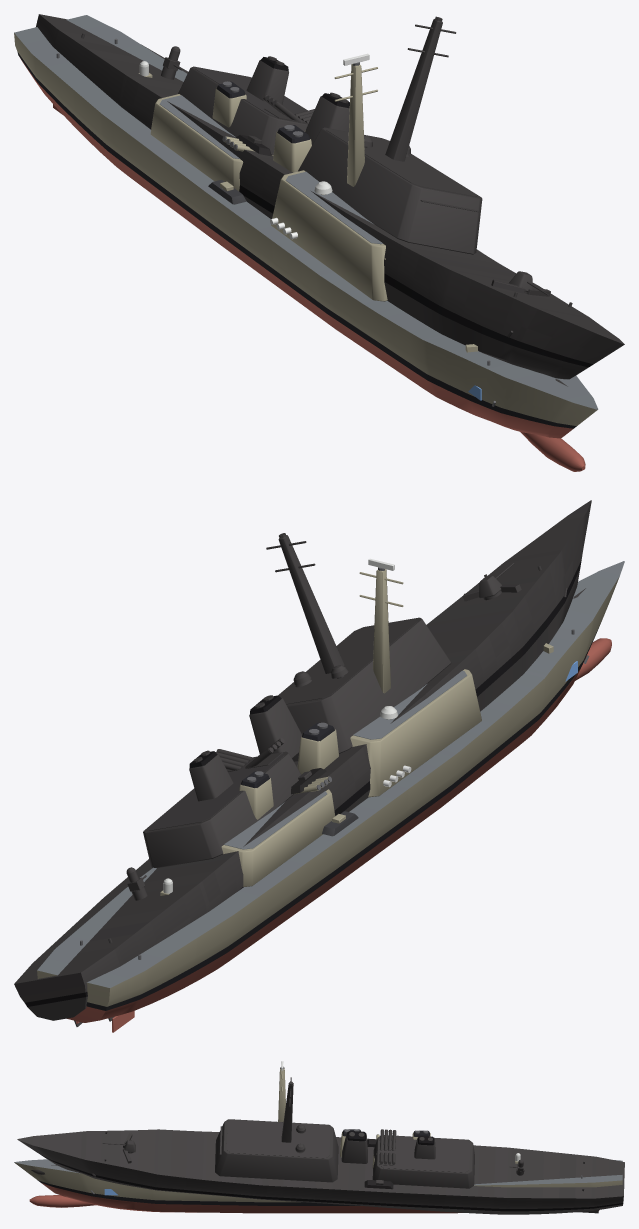
Rendered from asFrigate__abukuma_class.glb.
The picture shows the model from 3 angles, top to bottom: view 1: azimuth 30°, elevation 25°; view 2: azimuth 150°, elevation 25°; view 3: azimuth 270°, elevation 25°; orthographic projection. The views are drawn at different scales.
Parts seen in each view (by area): view 1: Hull_Mesh, Wreck; view 2: Wreck, Hull_Mesh; view 3: Wreck, Hull_Mesh.
Part boxes in pixels (x1,y1,x2,y2): Hull_Mesh: (14, 15, 598, 471); Wreck: (36, 14, 624, 386); Wreck: (14, 500, 591, 1026); Hull_Mesh: (37, 561, 624, 1032); Wreck: (17, 1077, 624, 1214); Hull_Mesh: (14, 1068, 622, 1213).
Size of what is drawn, in the model's own units: 19.51 by 31.04 by 114.
